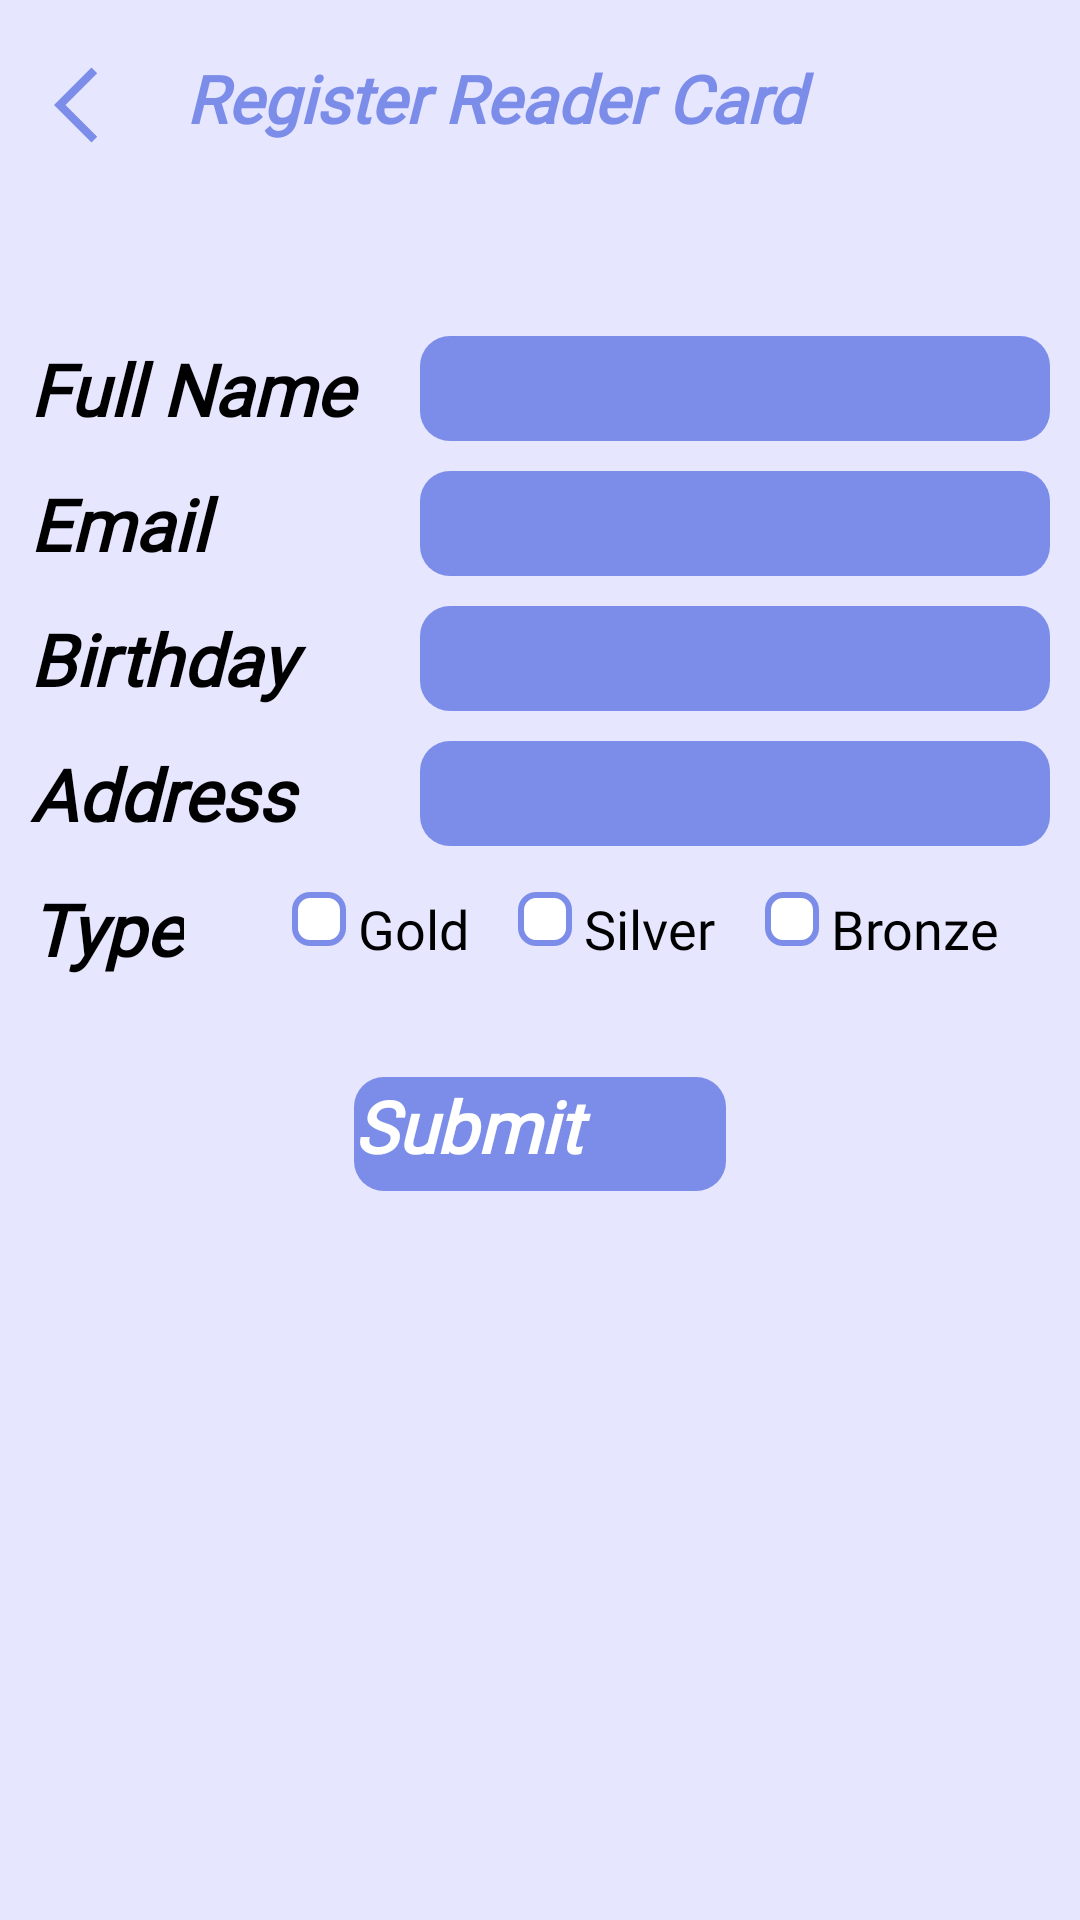

Point at icon controls on the screen. Image size 1080px x 1920px, points as (x,y).
Return button: (75,105)
